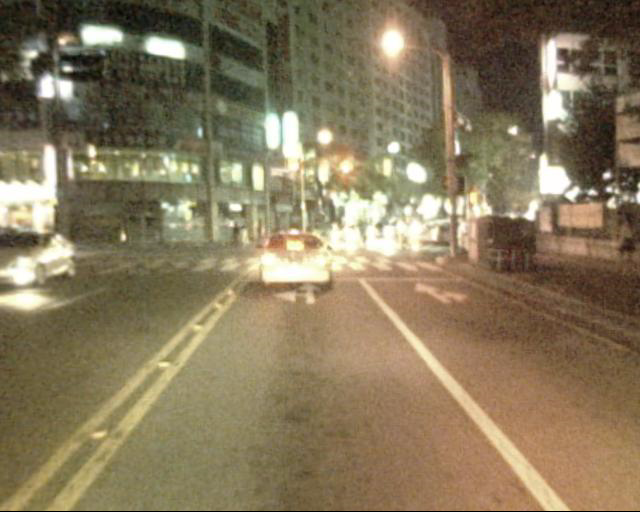person: (607, 211, 638, 287), (0, 208, 34, 268), (228, 216, 265, 251), (350, 217, 373, 258), (393, 220, 416, 257), (428, 220, 448, 253)
